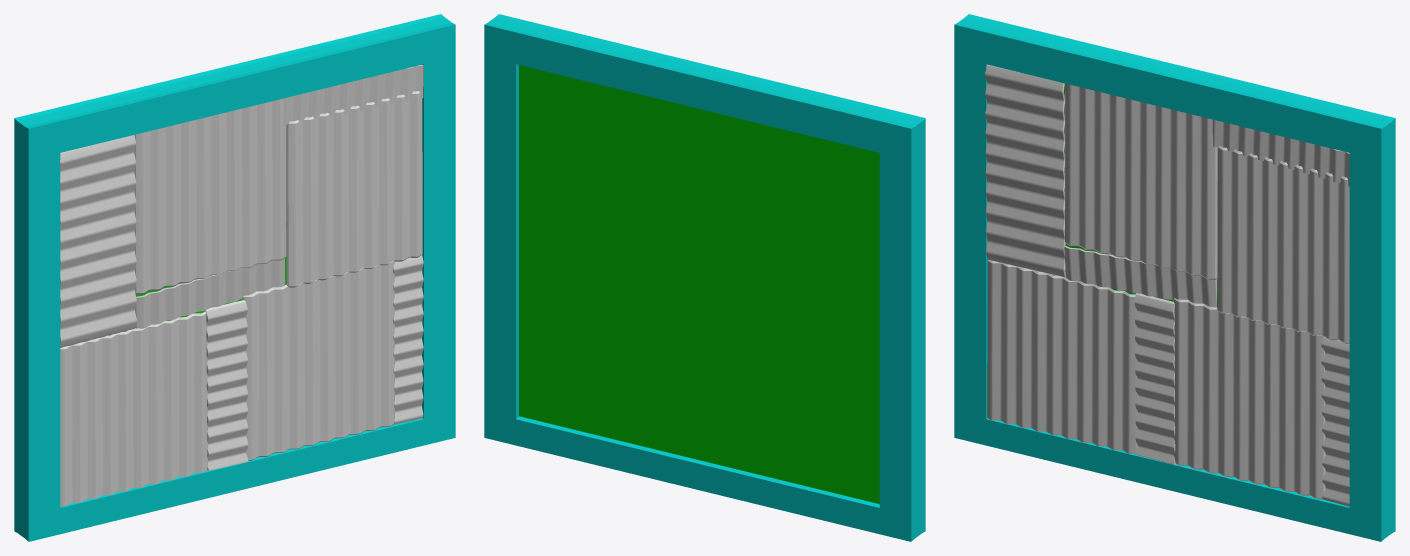
File: Gate-2.fbx
The picture shows the model from 3 angles, left to right: view 1: azimuth 30°, elevation 25°; view 2: azimuth 150°, elevation 25°; view 3: azimuth 330°, elevation 25°; orthographic projection.
Visible parts, largest first — view 1: pCube75, pasted__Wavy_Metal9, pasted__Wavy_Metal7, pasted__Wavy_Metal6, pasted__Wavy_Metal8, pasted__Wavy_Metal10, pasted__Wavy_Metal11, pasted__Wavy_Metal12, pasted__Wavy_Metal13, pasted__Wavy_Metal14; view 2: pCube75; view 3: pCube75, pasted__Wavy_Metal7, pasted__Wavy_Metal9, pasted__Wavy_Metal6, pasted__Wavy_Metal8, pasted__Wavy_Metal10, pasted__Wavy_Metal11, pasted__Wavy_Metal13, pasted__Wavy_Metal12, pasted__Wavy_Metal14.
Part boxes in pixels (box(x1,y1,x2,y2)): pCube75: box(14, 14, 455, 541); pasted__Wavy_Metal9: box(134, 98, 286, 294); pasted__Wavy_Metal7: box(242, 261, 394, 460); pasted__Wavy_Metal6: box(60, 311, 207, 506); pasted__Wavy_Metal8: box(286, 91, 422, 287); pasted__Wavy_Metal10: box(59, 135, 136, 347); pasted__Wavy_Metal11: box(204, 300, 248, 470); pasted__Wavy_Metal12: box(393, 255, 423, 424); pasted__Wavy_Metal13: box(135, 258, 284, 328); pasted__Wavy_Metal14: box(284, 65, 423, 124); pCube75: box(484, 14, 925, 541); pCube75: box(954, 14, 1395, 541); pasted__Wavy_Metal7: box(1173, 298, 1325, 499); pasted__Wavy_Metal9: box(1065, 83, 1217, 279); pasted__Wavy_Metal6: box(987, 260, 1137, 453); pasted__Wavy_Metal8: box(1217, 146, 1349, 343); pasted__Wavy_Metal10: box(985, 64, 1065, 277); pasted__Wavy_Metal11: box(1134, 293, 1175, 464); pasted__Wavy_Metal13: box(1064, 246, 1216, 307); pasted__Wavy_Metal12: box(1321, 337, 1349, 506); pasted__Wavy_Metal14: box(1212, 119, 1349, 186).
Bounding box in the file's own units: 341 × 315 × 20.54.
